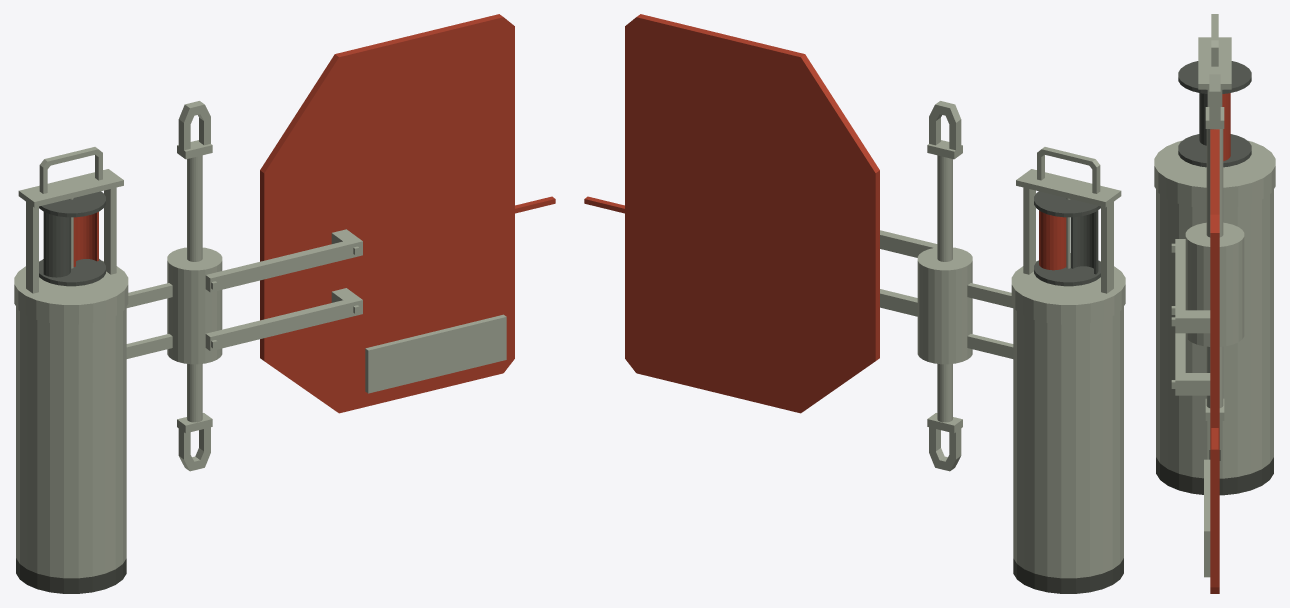
The picture shows the model from 3 angles, left to right: view 1: azimuth 30°, elevation 25°; view 2: azimuth 150°, elevation 25°; view 3: azimuth 270°, elevation 25°; orthographic projection. The views are drawn at different scales.
Visible parts, largest first — view 1: VANE_large_direction_plate, RECORDER_pressure_housing, VANE_ballast_face, SWIVEL_hollow_sleeve, RECORDER_head_collar, LINK_vane_front_lower, LINK_vane_front_upper, MOORING_central_through_shaft, GUARD_top_bridge, RECORDER_bottom_foot, ROTOR_curved_bucket_1, ROTOR_curved_bucket_0 (+9 smaller); view 2: VANE_large_direction_plate, RECORDER_pressure_housing, SWIVEL_hollow_sleeve, RECORDER_head_collar, MOORING_central_through_shaft, GUARD_top_bridge, RECORDER_bottom_foot, ROTOR_curved_bucket_0, ROTOR_curved_bucket_1, GUARD_upright_0, MOORING_upper_open_eye, ROTOR_top_disc (+8 smaller); view 3: RECORDER_pressure_housing, SWIVEL_hollow_sleeve, RECORDER_head_collar, VANE_large_direction_plate, RECORDER_bottom_foot, MOORING_central_through_shaft, GUARD_top_bridge, ROTOR_bottom_disc, ROTOR_top_disc, LINK_vane_front_upper, VANE_ballast_face, LINK_vane_front_lower (+9 smaller).
Part boxes in pixels (bbox=[...]): VANE_large_direction_plate: bbox=[260, 14, 514, 413]; RECORDER_pressure_housing: bbox=[16, 307, 126, 578]; VANE_ballast_face: bbox=[365, 314, 506, 393]; SWIVEL_hollow_sleeve: bbox=[167, 247, 222, 364]; RECORDER_head_collar: bbox=[14, 260, 128, 324]; LINK_vane_front_lower: bbox=[205, 296, 362, 351]; LINK_vane_front_upper: bbox=[205, 238, 362, 292]; MOORING_central_through_shaft: bbox=[187, 155, 202, 422]; GUARD_top_bridge: bbox=[18, 169, 123, 207]; RECORDER_bottom_foot: bbox=[16, 558, 126, 593]; ROTOR_curved_bucket_1: bbox=[43, 212, 70, 277]; ROTOR_curved_bucket_0: bbox=[73, 212, 98, 266]; VANE_large_direction_plate: bbox=[625, 14, 879, 413]; RECORDER_pressure_housing: bbox=[1013, 307, 1123, 578]; SWIVEL_hollow_sleeve: bbox=[917, 247, 972, 364]; RECORDER_head_collar: bbox=[1011, 260, 1125, 324]; MOORING_central_through_shaft: bbox=[937, 155, 952, 422]; GUARD_top_bridge: bbox=[1016, 169, 1121, 207]; RECORDER_bottom_foot: bbox=[1013, 558, 1123, 593]; ROTOR_curved_bucket_0: bbox=[1039, 210, 1066, 270]; ROTOR_curved_bucket_1: bbox=[1071, 210, 1098, 274]; GUARD_upright_0: bbox=[1101, 202, 1113, 293]; MOORING_upper_open_eye: bbox=[929, 101, 961, 150]; ROTOR_top_disc: bbox=[1034, 191, 1100, 217]; RECORDER_pressure_housing: bbox=[1156, 189, 1273, 478]; SWIVEL_hollow_sleeve: bbox=[1185, 222, 1244, 346]; RECORDER_head_collar: bbox=[1154, 140, 1275, 208]; VANE_large_direction_plate: bbox=[1210, 129, 1219, 593]; RECORDER_bottom_foot: bbox=[1156, 457, 1273, 495]; MOORING_central_through_shaft: bbox=[1206, 129, 1223, 407]; GUARD_top_bridge: bbox=[1198, 37, 1231, 89]; ROTOR_bottom_disc: bbox=[1178, 134, 1251, 167]; ROTOR_top_disc: bbox=[1178, 61, 1251, 93]; LINK_vane_front_upper: bbox=[1175, 239, 1185, 333]; VANE_ballast_face: bbox=[1204, 459, 1210, 577]; LINK_vane_front_lower: bbox=[1175, 333, 1185, 395].
Bounding box in the file's own units: 0.711 × 0.575 × 0.132.
